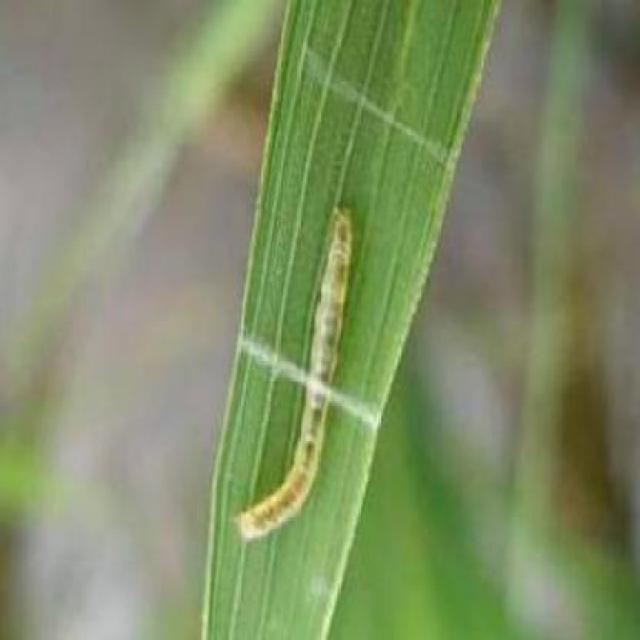leaf-folder: (214, 188, 372, 564)
